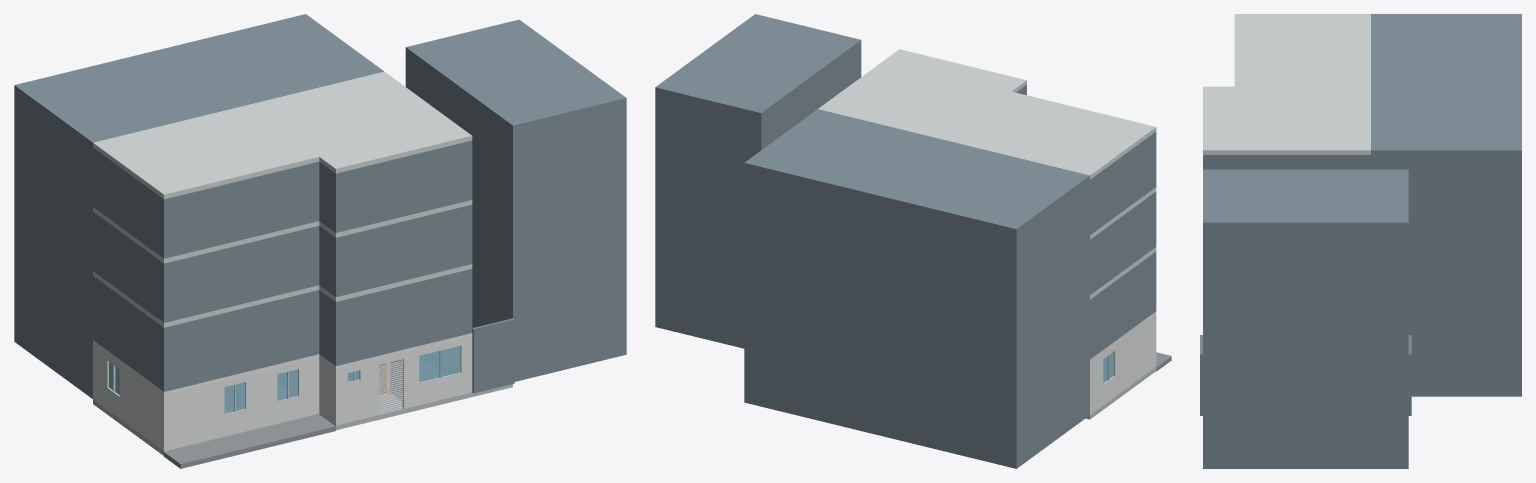
File: departamento-t7.glb
3 renders of one model, left to right at view 1: azimuth 30°, elevation 25°; view 2: azimuth 150°, elevation 25°; view 3: azimuth 270°, elevation 25°, orthographic. The views are drawn at different scales.
Parts seen in each view (by area): view 1: NeighbourEast, NeighbourNorth, UpperSlab4, UpperT6Mass2, UpperT6Mass3, UpperT6Mass4, ProvisionalTerrace, W05A, W03, CorridorEndSouth, T7Slab, UpperSlab2 (+10 smaller); view 2: NeighbourNorth, NeighbourEast, UpperSlab4, UpperT6Mass4, UpperT6Mass2, UpperT6Mass3, W03, W02; view 3: NeighbourEast, NeighbourNorth, UpperSlab4, UpperT6Mass4.
Boxes of the visible parts, x1,y1,x2,y2 form: NeighbourEast: (405, 19, 626, 381); NeighbourNorth: (14, 14, 383, 398); UpperSlab4: (93, 71, 472, 199); UpperT6Mass2: (93, 269, 472, 386); UpperT6Mass3: (93, 204, 472, 322); UpperT6Mass4: (93, 140, 472, 258); ProvisionalTerrace: (164, 414, 335, 468); W05A: (167, 377, 223, 450); W03: (120, 360, 167, 451); CorridorEndSouth: (472, 318, 514, 393); T7Slab: (93, 328, 472, 391); UpperSlab2: (93, 264, 472, 327); NeighbourNorth: (744, 109, 1089, 468); NeighbourEast: (655, 14, 861, 348); UpperSlab4: (818, 49, 1156, 179); UpperT6Mass4: (1016, 85, 1156, 234); UpperT6Mass2: (1090, 251, 1156, 354); UpperT6Mass3: (1090, 191, 1156, 294); W03: (1115, 311, 1156, 396); W02: (1091, 350, 1102, 413); NeighbourEast: (1203, 169, 1408, 468); NeighbourNorth: (1371, 14, 1521, 396); UpperSlab4: (1203, 14, 1370, 154); UpperT6Mass4: (1203, 155, 1370, 169).
Bounding box in the file's own units: 19.64 × 11.03 × 12.8.
